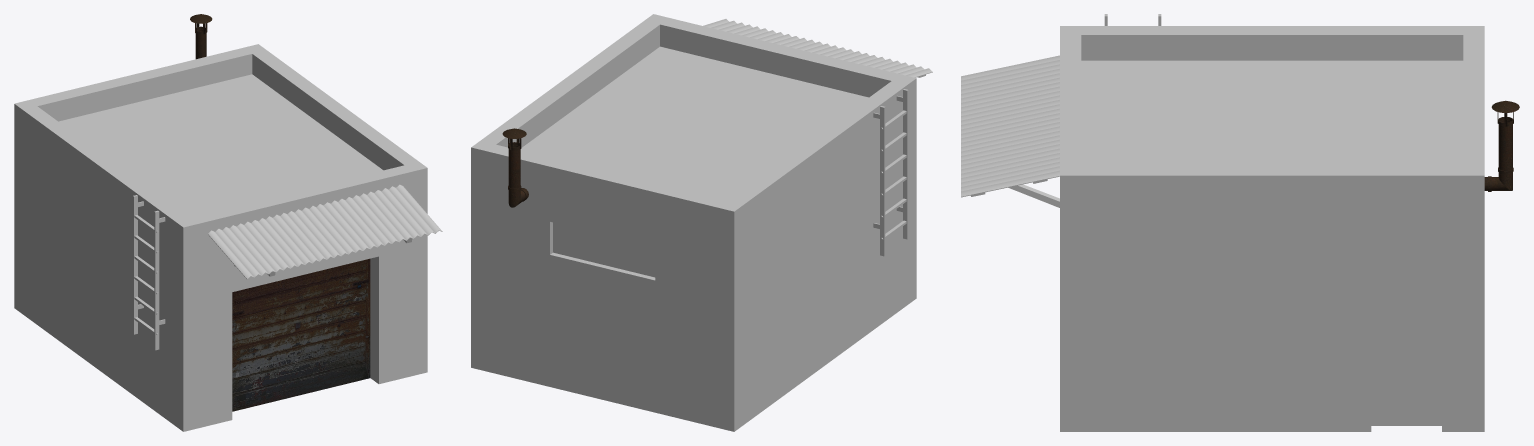
The model's file is garage_hm_2.fbx.
3 views of the same model, side by side, from view 1: azimuth 30°, elevation 25°; view 2: azimuth 150°, elevation 25°; view 3: azimuth 270°, elevation 25° (orthographic). The views are drawn at different scales.
Visible parts, largest first — view 1: garage_hm_2; view 2: garage_hm_2; view 3: garage_hm_2.
Part boxes in pixels (x1=…): garage_hm_2: x1=14, y1=14, x2=442, y2=431; garage_hm_2: x1=471, y1=14, x2=932, y2=431; garage_hm_2: x1=961, y1=14, x2=1519, y2=431.
Size of the model in its own units: 5.22 by 7.9 by 4.7.
